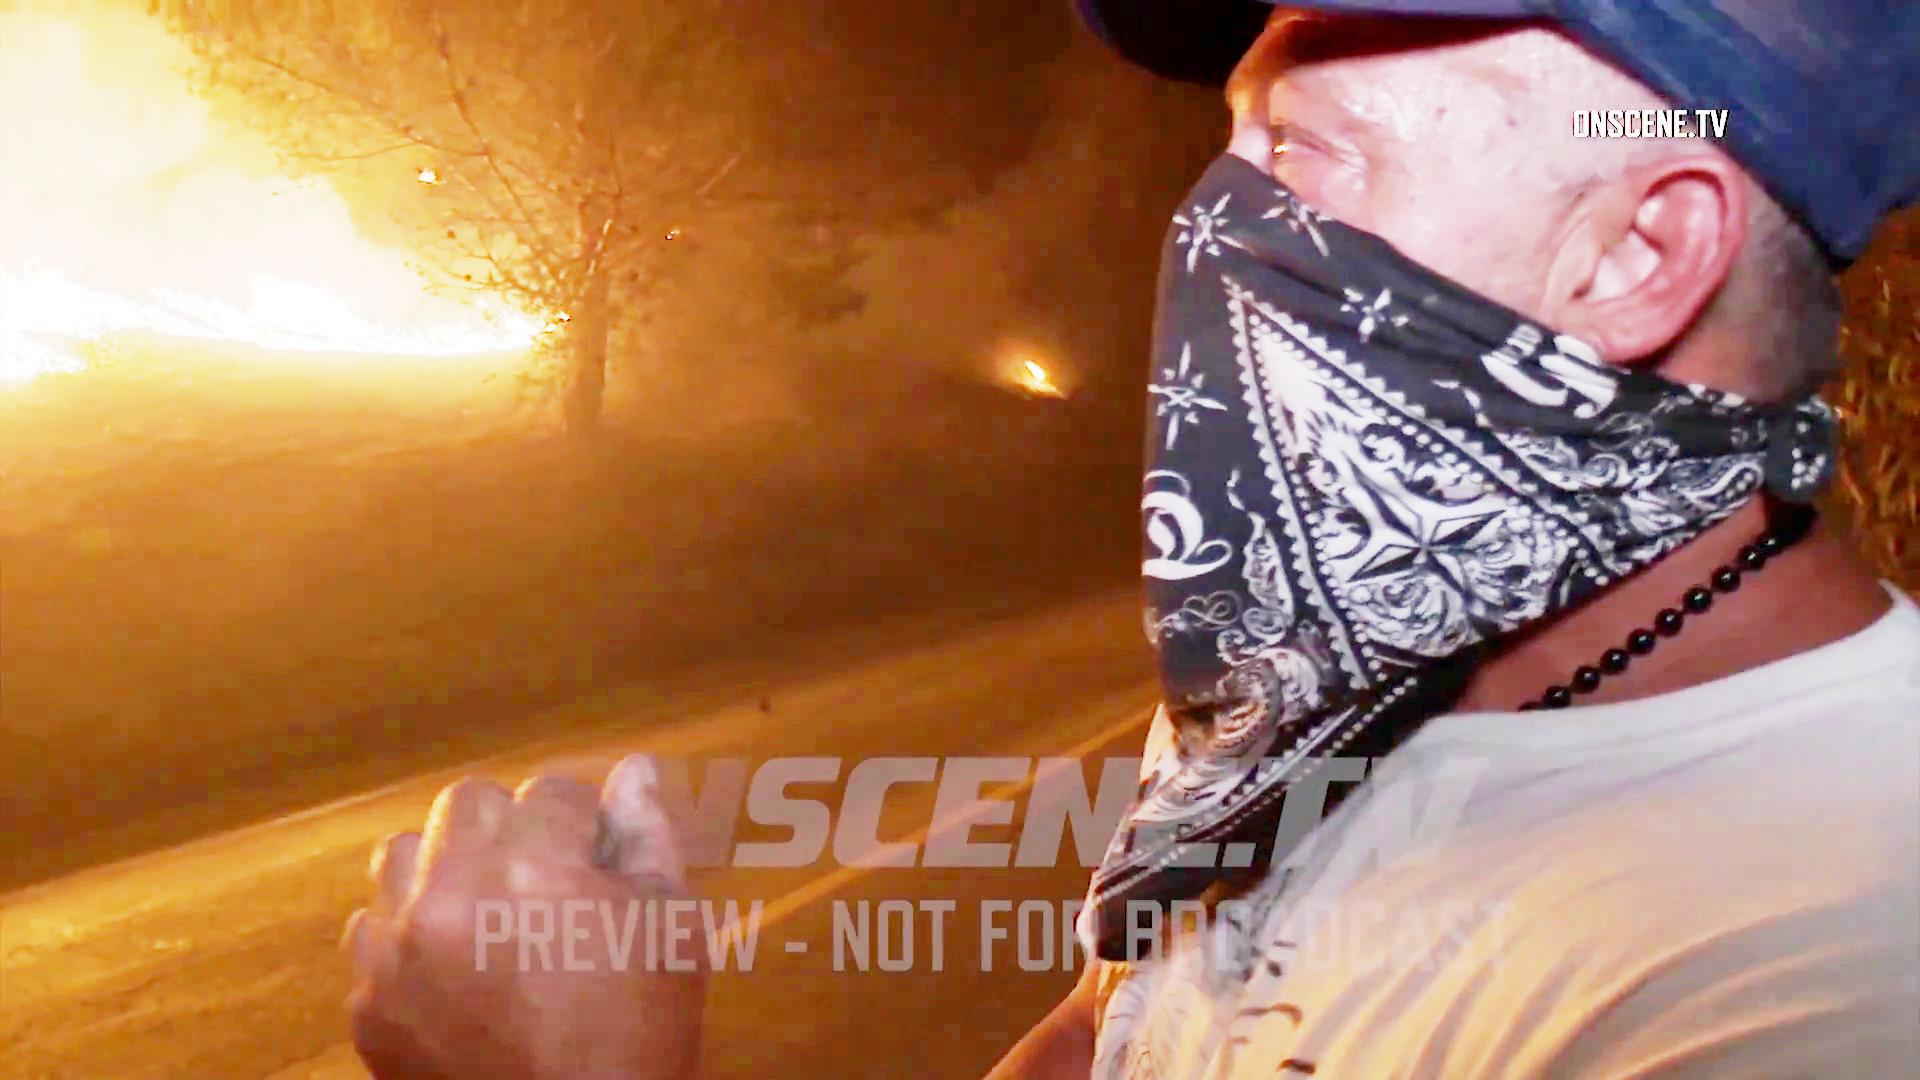fire: (0, 235, 471, 353)
